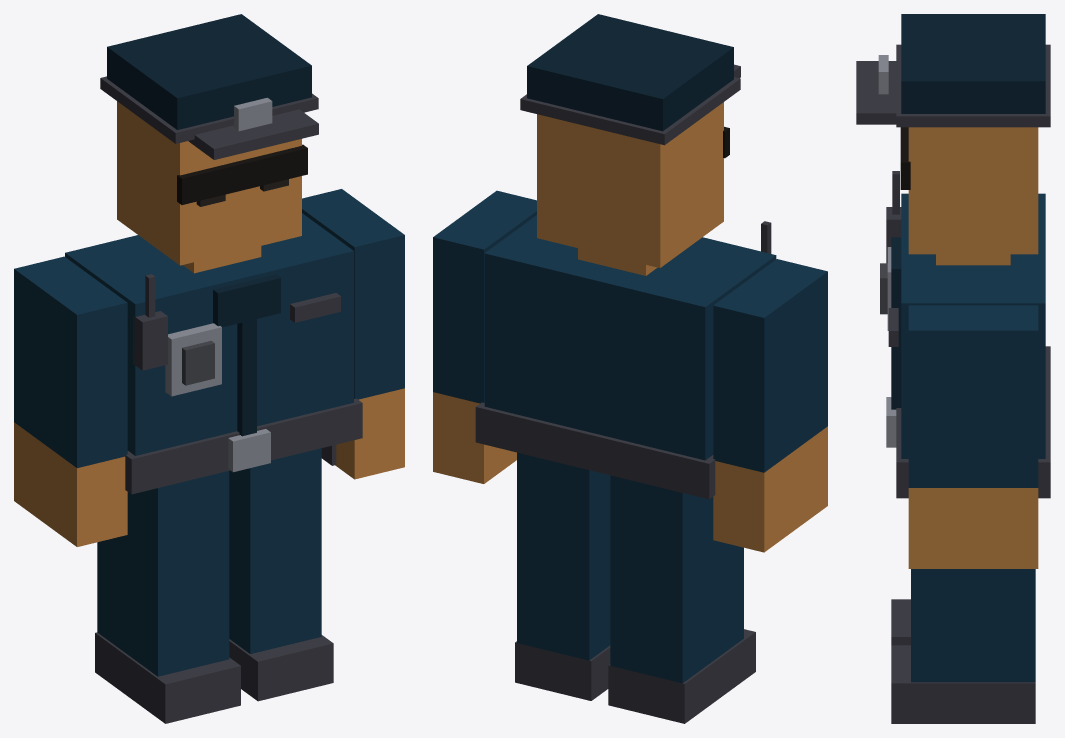
Rendered from office__securityGuard.glb.
3 views of the same model, side by side, from view 1: azimuth 30°, elevation 25°; view 2: azimuth 150°, elevation 25°; view 3: azimuth 270°, elevation 25° (orthographic). The views are drawn at different scales.
Visible parts, largest first — view 1: office__securityGuard, rig_armL, rig_legL, rig_legR, rig_armR; view 2: office__securityGuard, rig_armL, rig_legL, rig_legR, rig_armR; view 3: office__securityGuard, rig_armR, rig_legR, rig_legL.
Part boxes in pixels (bbox=[...]): office__securityGuard: bbox=[65, 14, 362, 494]; rig_armL: bbox=[14, 256, 127, 546]; rig_legL: bbox=[95, 471, 240, 723]; rig_legR: bbox=[229, 448, 333, 701]; rig_armR: bbox=[302, 189, 404, 479]; office__securityGuard: bbox=[475, 14, 776, 499]; rig_armL: bbox=[713, 259, 827, 552]; rig_legL: bbox=[608, 475, 755, 723]; rig_legR: bbox=[515, 452, 610, 700]; rig_armR: bbox=[433, 190, 536, 483]; office__securityGuard: bbox=[856, 14, 1050, 498]; rig_armR: bbox=[908, 305, 1038, 568]; rig_legR: bbox=[891, 569, 1035, 723]; rig_legL: bbox=[891, 599, 910, 645].
Size of the model in its own units: 1.56 by 2.81 by 0.78.
